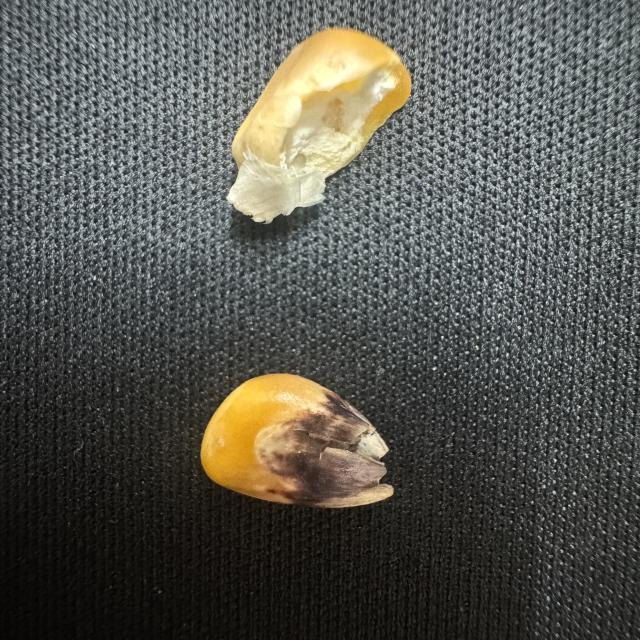Bad-Seed: (222, 20, 416, 229), (196, 365, 401, 515)
